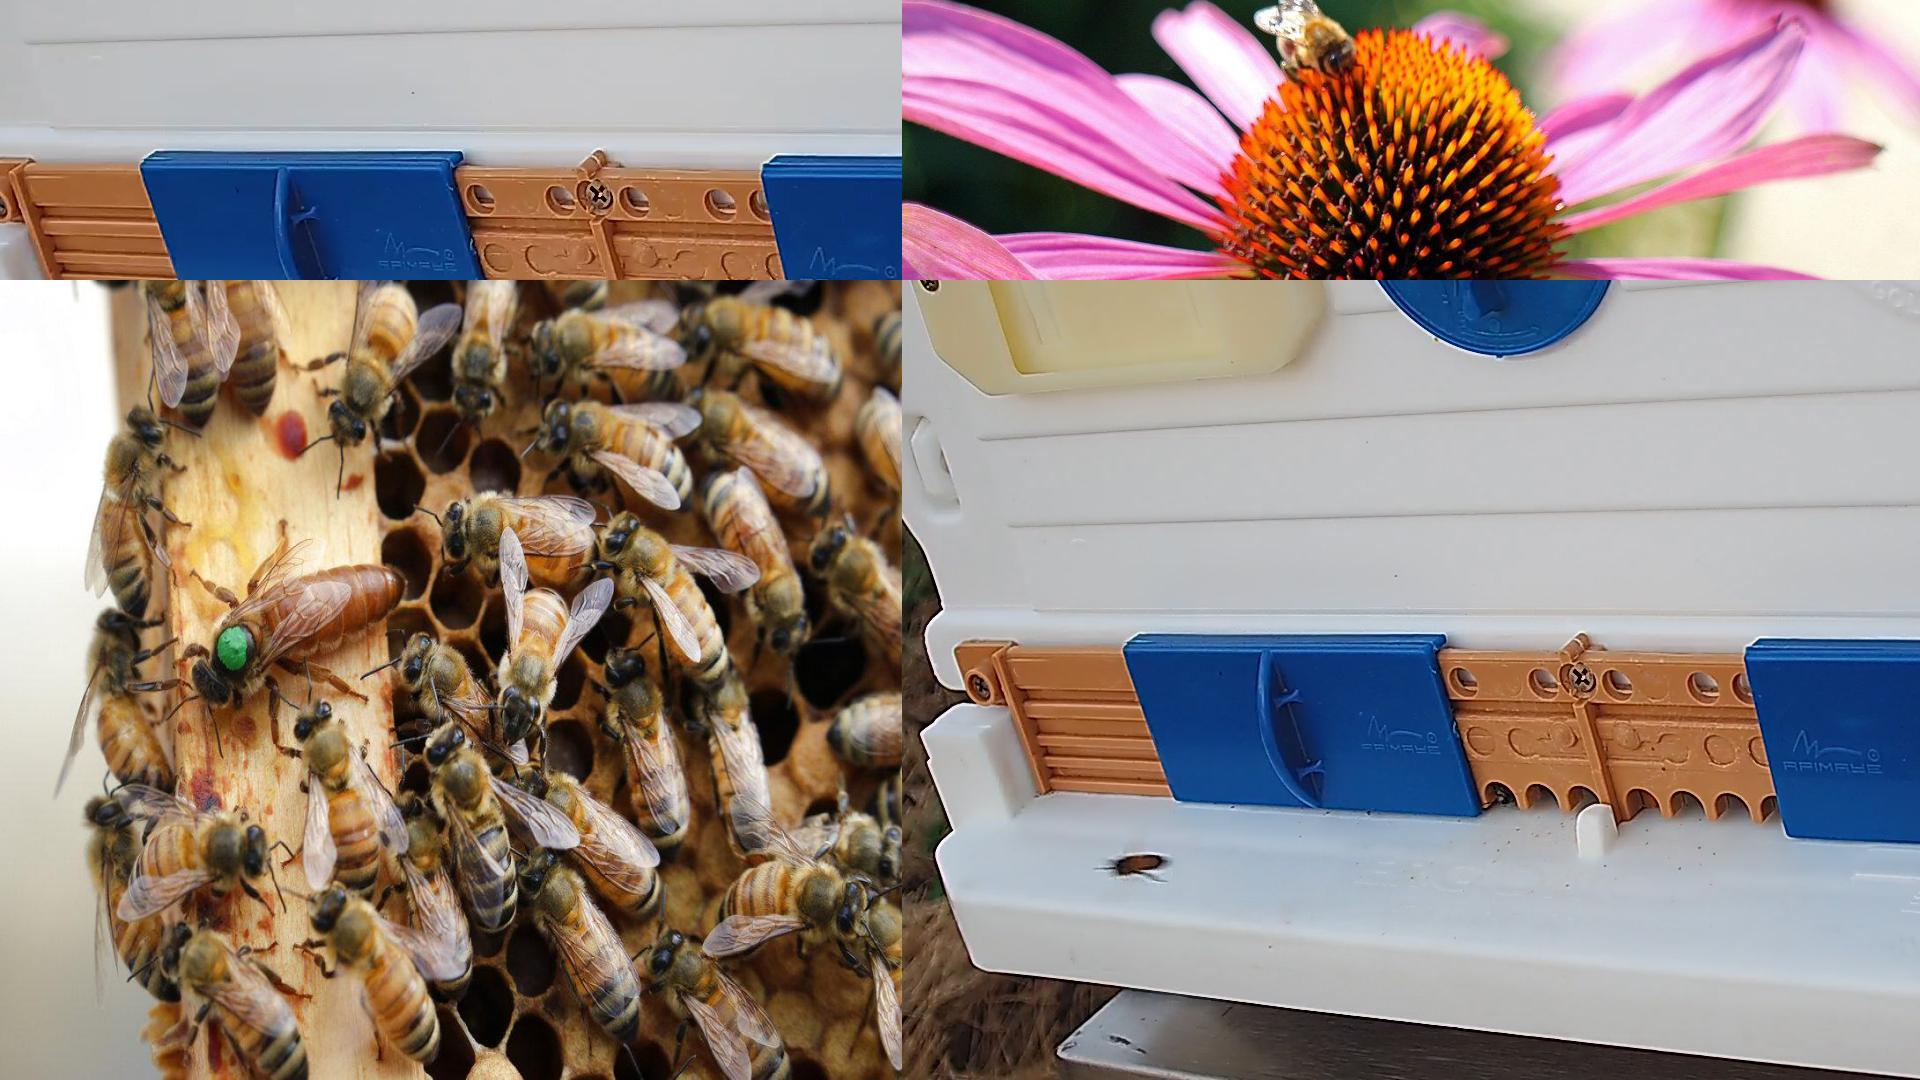bee: (164, 920, 309, 1079), (525, 848, 640, 1036), (316, 887, 440, 1062), (651, 932, 794, 1079), (611, 516, 728, 683), (525, 770, 662, 910), (382, 794, 472, 1001), (705, 471, 808, 646), (430, 729, 517, 931), (91, 798, 178, 996), (688, 390, 831, 506), (297, 702, 377, 898), (688, 295, 840, 400), (545, 401, 691, 508), (91, 611, 174, 793), (407, 640, 514, 770), (132, 812, 269, 914), (443, 501, 600, 587), (720, 858, 866, 948), (331, 290, 419, 438), (537, 314, 679, 404), (100, 411, 162, 617), (816, 526, 901, 669), (702, 678, 770, 847), (145, 280, 220, 429), (500, 595, 568, 738), (216, 280, 278, 418), (455, 280, 510, 410), (796, 819, 901, 884), (829, 692, 901, 770), (1279, 15, 1360, 73), (858, 400, 901, 500), (873, 314, 902, 392), (864, 771, 901, 825), (1114, 855, 1164, 878), (1493, 779, 1515, 806)
queen: (193, 567, 405, 704)
